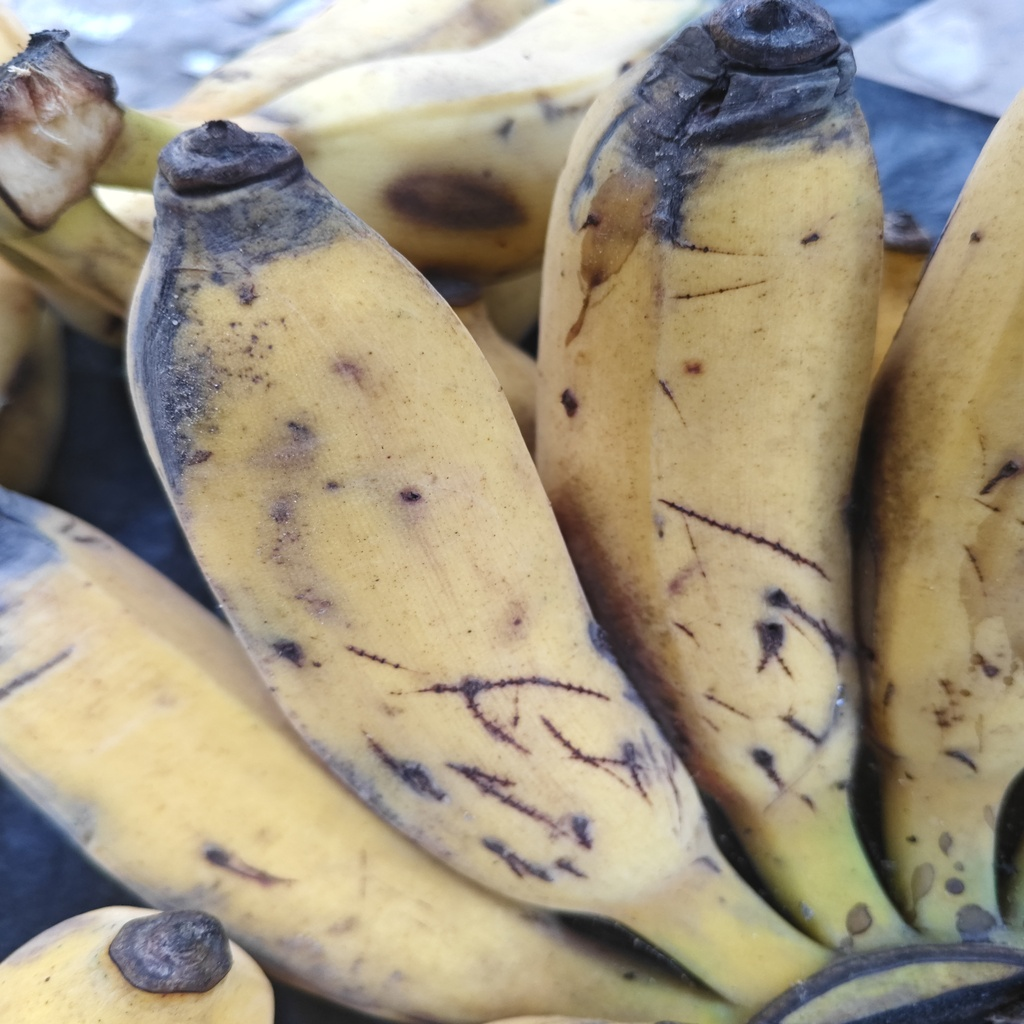unhealthy: (131, 129, 715, 915), (538, 5, 884, 813)
